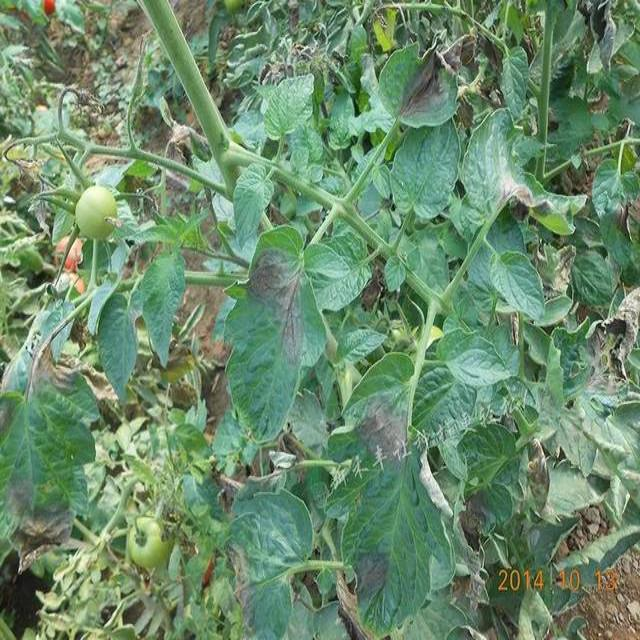Early_blight: (245, 246, 308, 366), (3, 477, 76, 575), (28, 332, 117, 405), (397, 34, 473, 119), (584, 285, 640, 395), (454, 485, 492, 609), (355, 397, 409, 468), (224, 540, 262, 636), (575, 1, 617, 72), (529, 246, 582, 302), (497, 170, 548, 213), (354, 548, 394, 600), (527, 436, 550, 516), (217, 472, 244, 517)
